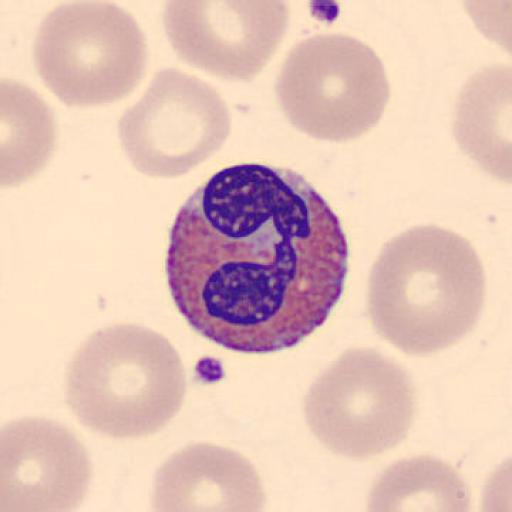RBC: (364, 222, 488, 358), (65, 320, 188, 442), (302, 345, 418, 462), (116, 64, 232, 180), (274, 30, 392, 144), (32, 0, 150, 109), (161, 0, 290, 82), (148, 438, 269, 512), (2, 414, 93, 511), (451, 61, 512, 184), (362, 451, 474, 512), (2, 78, 58, 190), (461, 0, 512, 55), (478, 454, 512, 512)
WBC: (164, 162, 351, 356)
